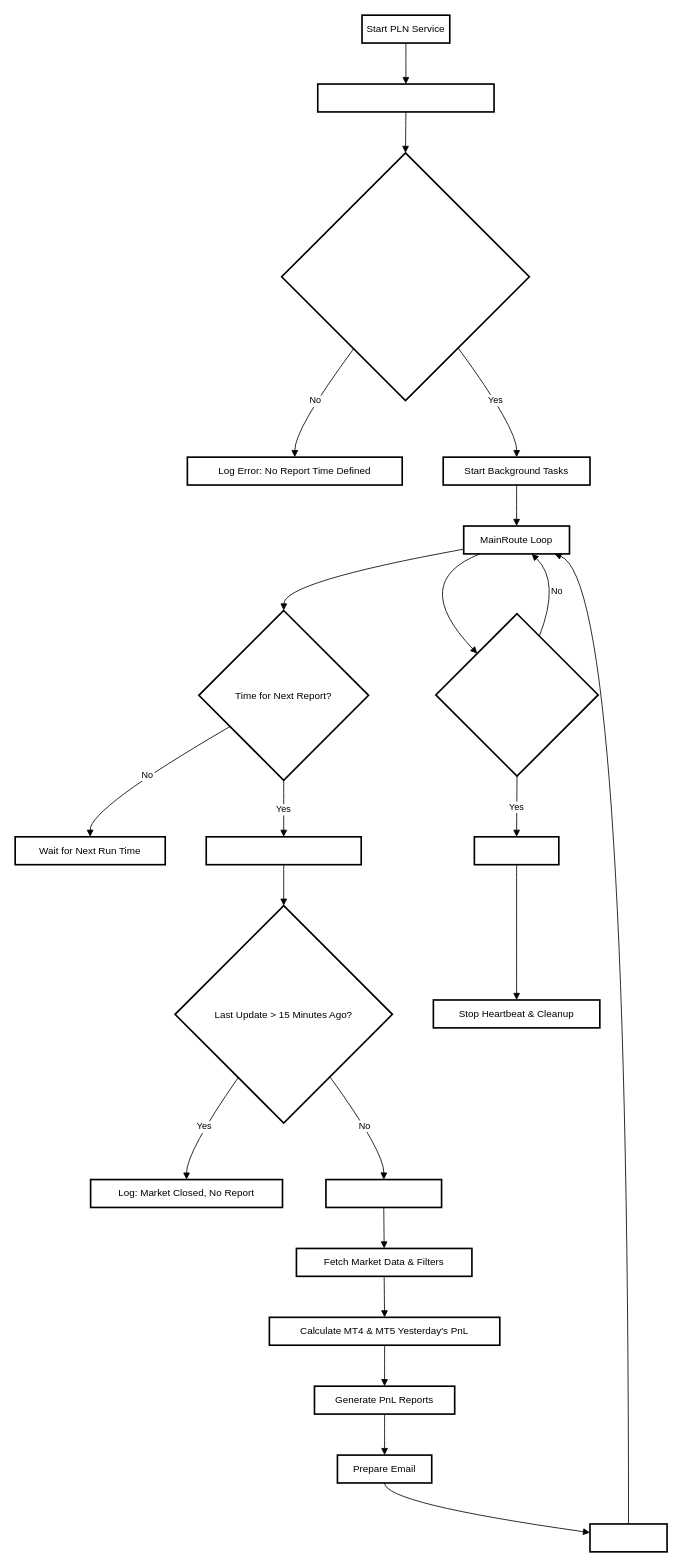
Image size: 681x1566. Some labels were removed from this diagram. The shapes that lost their labels are listed below. From the top down, each one's centre as x and y in pixels, then its label:
At point 405,97: "Initialize Helpers & Utilities".
At point 405,276: "Report Generating Times Available?".
At point 517,695: "Is Cancel Requested?".
At point 283,850: "Check Last Price Update".
At point 516,850: "Stop Service".
At point 383,1193: "PnLReportProcess".
At point 628,1537: "Send Email".
